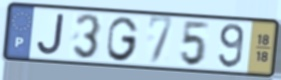3: (68, 12, 106, 61)
5: (179, 19, 212, 68)
7: (145, 15, 175, 68)
9: (217, 22, 246, 70)
G: (105, 15, 141, 63)
J: (35, 13, 67, 57)
